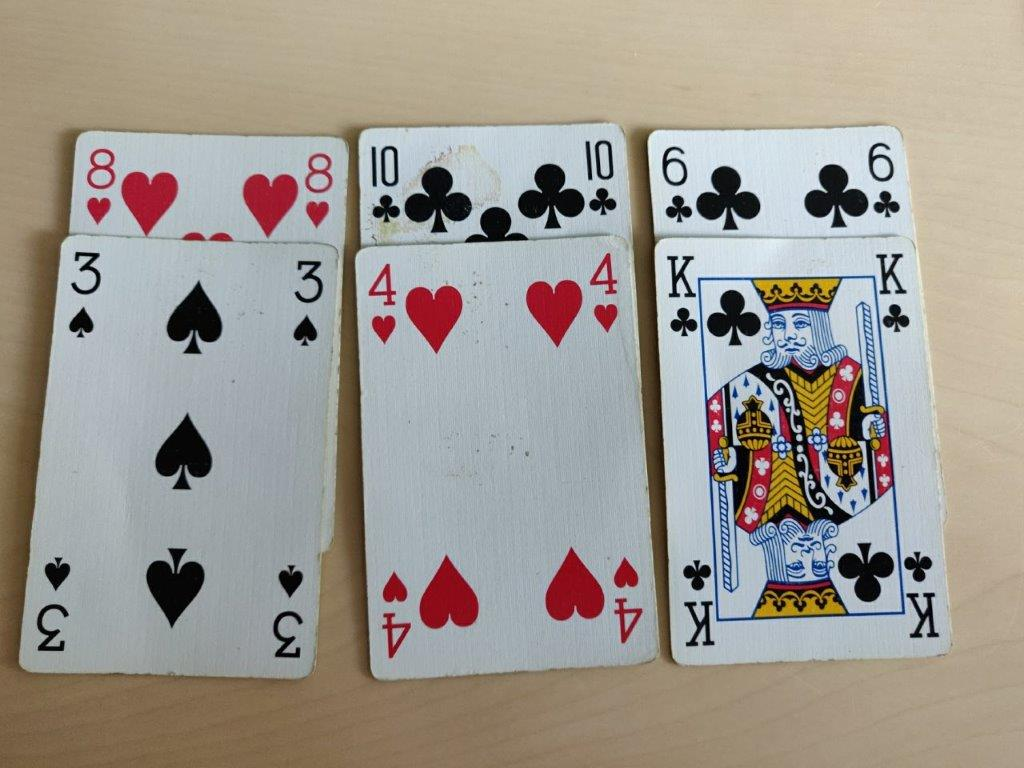10C: (362, 139, 404, 226), (579, 129, 621, 216)
3S: (65, 245, 107, 342), (286, 255, 328, 352)
4H: (585, 245, 623, 341), (365, 258, 400, 348)
6C: (655, 137, 697, 227), (865, 137, 904, 222)
8H: (82, 137, 119, 223), (298, 148, 335, 234)
KC: (659, 243, 700, 340), (874, 242, 915, 339)
